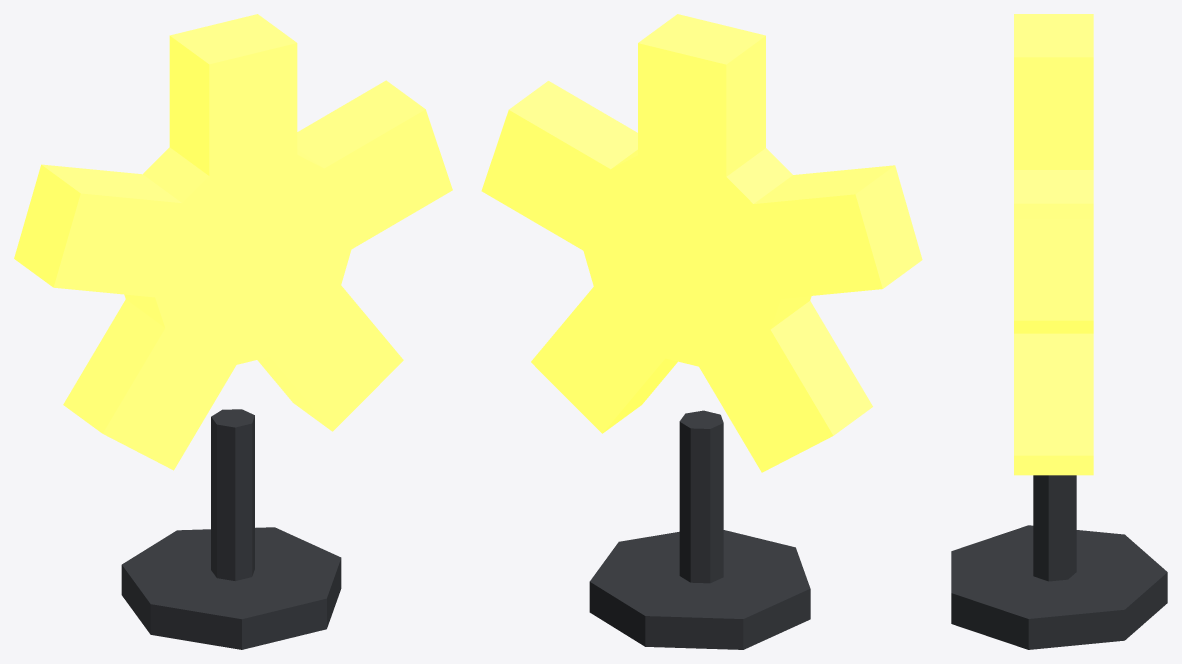
File: star-lod1.glb
3 views of the same model, side by side, from view 1: azimuth 30°, elevation 25°; view 2: azimuth 150°, elevation 25°; view 3: azimuth 270°, elevation 25° (orthographic).
Visible parts, largest first — view 1: star; view 2: star; view 3: star.
Boxes of the visible parts, x1,y1,x2,y2 form: star: [14, 14, 452, 649]; star: [481, 14, 922, 649]; star: [951, 14, 1167, 649].
Size of the model in its own units: 0.4082 by 0.55 by 0.1901.
